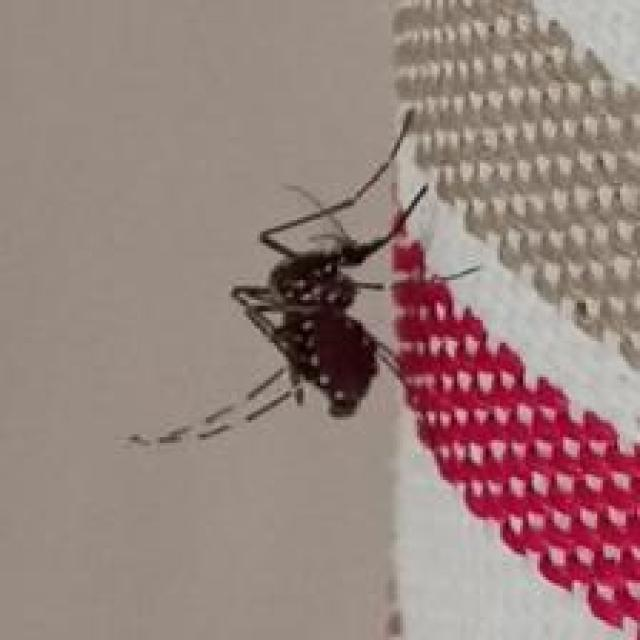Aedes albopictus: (124, 106, 479, 451)
